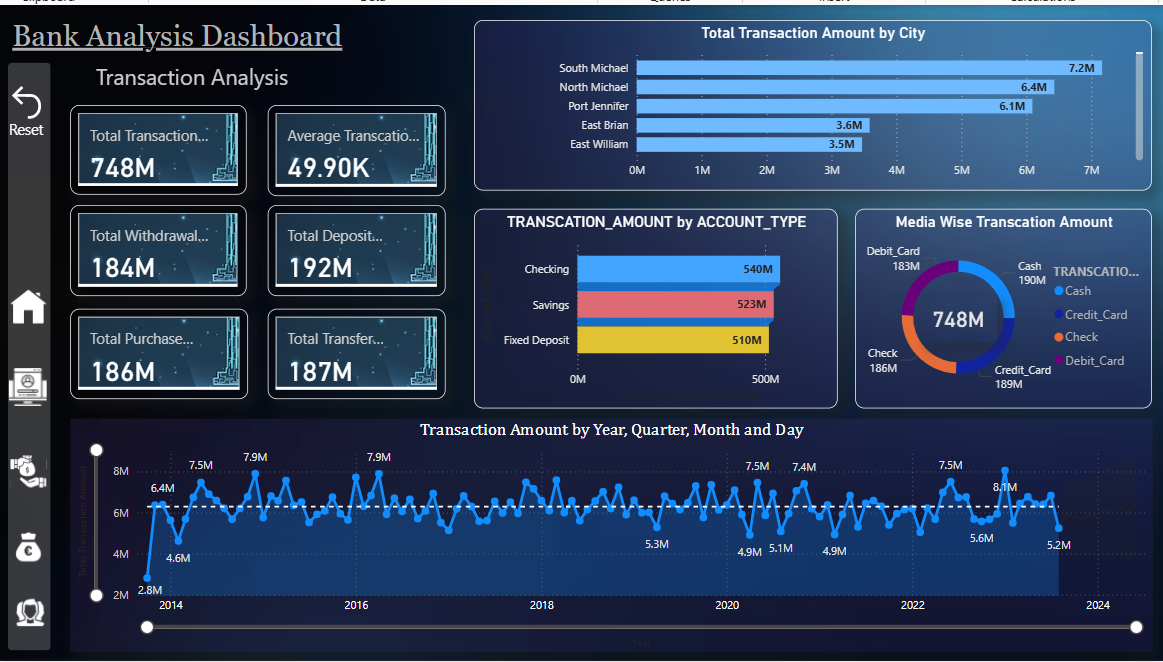

The dashboard page shown, as its layout file describes it:
{"tool":"powerbi","page":{"name":"Transcation Analysis ","canvas":[1280,720],"ordinal":4},"visuals":[{"type":"textbox","box":[10.1,11.5,403.2,54.7],"z":0},{"type":"shape","box":[10.1,63.4,47.6,645.9],"z":1000},{"type":"lineChart","title":"Transaction Amount by Year, Quarter, Month and Day","fields":{"Y":["Measure Table.Total Transaction Amount"],"Category":["Bank_Transacation_Data.Start of Month.Variation.Date Hierarchy.Year","Bank_Transacation_Data.Start of Month.Variation.Date Hierarchy.Quarter","Bank_Transacation_Data.Start of Month.Variation.Date Hierarchy.Month","Bank_Transacation_Data.Start of Month.Variation.Date Hierarchy.Day"]},"box":[77.8,453.6,1188.1,256.3],"z":2000},{"type":"cardVisual","fields":{"Data":["Measure Table.Total Purchase Transcation"]},"box":[77.8,333.6,195.1,98.9],"z":3000},{"type":"cardVisual","fields":{"Data":["Measure Table.Total Deposit Transcation Amount"]},"box":[295.1,219.5,195.3,99.8],"z":4000},{"type":"cardVisual","fields":{"Data":["Measure Table.Total Withdroe Transcation Amount"]},"box":[78.4,219.5,193.9,99.8],"z":5000},{"type":"cardVisual","fields":{"Data":["Measure Table.Total Transfer Transcation Amount"]},"box":[295.3,333.6,195.1,98.9],"z":6000},{"type":"cardVisual","fields":{"Data":["Measure Table.Average Transcation Amount"]},"box":[295.1,109.8,195.3,99.8],"z":7000},{"type":"cardVisual","fields":{"Data":["Measure Table.Total Transaction Amount"]},"box":[78.4,109.8,193.9,98.4],"z":8000},{"type":"donutChart","title":"Media Wise Transcation Amount","fields":{"Category":["Bank_Transacation_Data.TRANSCATION_MEDIA"],"Y":["Sum(Bank_Transacation_Data.TRANSCATION_AMOUNT)"]},"box":[940.1,224.1,325.7,218.9],"z":9000},{"type":"card","fields":{"Values":["Measure Table.Total Transaction Amount"]},"box":[1011.3,319.1,84.4,50.1],"z":10000},{"type":"barChart","title":"TRANSCATION_AMOUNT by ACCOUNT_TYPE","fields":{"Category":["Bank_Account_Data.ACCOUNT_TYPE"],"Y":["Sum(Bank_Transacation_Data.TRANSCATION_AMOUNT)"]},"box":[522.1,224.1,399.5,218.9],"z":11000},{"type":"clusteredBarChart","fields":{"Category":["Bank_Customer_Data.City"],"Y":["Measure Table.Total Transaction Amount"]},"box":[522.1,15.8,743.6,187.2],"z":12000},{"type":"actionButton","box":[8.4,305.2,48.3,54.3],"z":13000},{"type":"actionButton","box":[7.2,393.3,49.5,50.7],"z":14000},{"type":"actionButton","box":[8.4,481.4,48.3,61.5],"z":15000},{"type":"actionButton","box":[8.4,564.6,48.3,62.7],"z":16000},{"type":"actionButton","box":[12.1,643,44.6,47.1],"z":17000},{"type":"actionButton","box":[7,62.6,47.3,87.7],"z":18000},{"type":"textbox","box":[101.2,57,255.1,49.9],"z":19000}]}

Visuals, with their boxes on the page's 1280x720 design canvas (x1, y1, x2, y2). These are canvas units, not pixel positions in the 1163x662 screenshot, which may show the page scaled, cropped or inside an application window:
textbox: <bbox>10, 12, 413, 66</bbox>
shape: <bbox>10, 63, 58, 709</bbox>
"Transaction Amount by Year, Quarter, Month and Day" lineChart: <bbox>78, 454, 1266, 710</bbox>
cardVisual - Measure Table.Total Purchase Transcation: <bbox>78, 334, 273, 432</bbox>
cardVisual - Measure Table.Total Deposit Transcation Amount: <bbox>295, 220, 490, 319</bbox>
cardVisual - Measure Table.Total Withdroe Transcation Amount: <bbox>78, 220, 272, 319</bbox>
cardVisual - Measure Table.Total Transfer Transcation Amount: <bbox>295, 334, 490, 432</bbox>
cardVisual - Measure Table.Average Transcation Amount: <bbox>295, 110, 490, 210</bbox>
cardVisual - Measure Table.Total Transaction Amount: <bbox>78, 110, 272, 208</bbox>
"Media Wise Transcation Amount" donutChart: <bbox>940, 224, 1266, 443</bbox>
card - Measure Table.Total Transaction Amount: <bbox>1011, 319, 1096, 369</bbox>
"TRANSCATION_AMOUNT by ACCOUNT_TYPE" barChart: <bbox>522, 224, 922, 443</bbox>
clusteredBarChart - Bank_Customer_Data.City x Measure Table.Total Transaction Amount: <bbox>522, 16, 1266, 203</bbox>
actionButton: <bbox>8, 305, 57, 360</bbox>
actionButton: <bbox>7, 393, 57, 444</bbox>
actionButton: <bbox>8, 481, 57, 543</bbox>
actionButton: <bbox>8, 565, 57, 627</bbox>
actionButton: <bbox>12, 643, 57, 690</bbox>
actionButton: <bbox>7, 63, 54, 150</bbox>
textbox: <bbox>101, 57, 356, 107</bbox>
